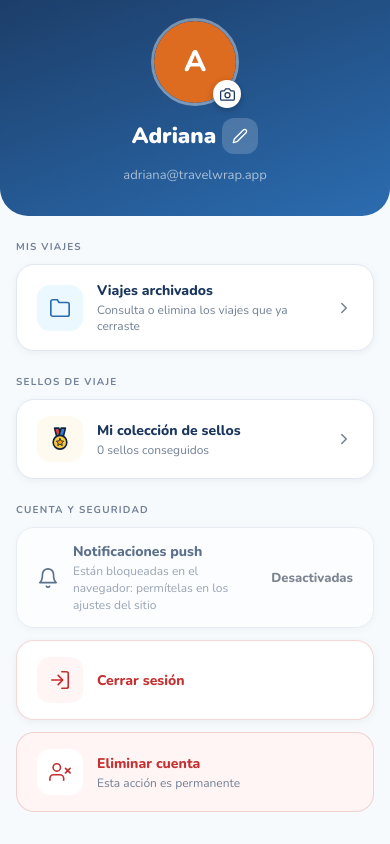
Test: Perfil · eliminar cuenta › si no hay conexión lo dice
(page scrolled)
Click the button "Eliminar cuenta Esta acción es permanente": click(195, 772) [16,732,374,812]
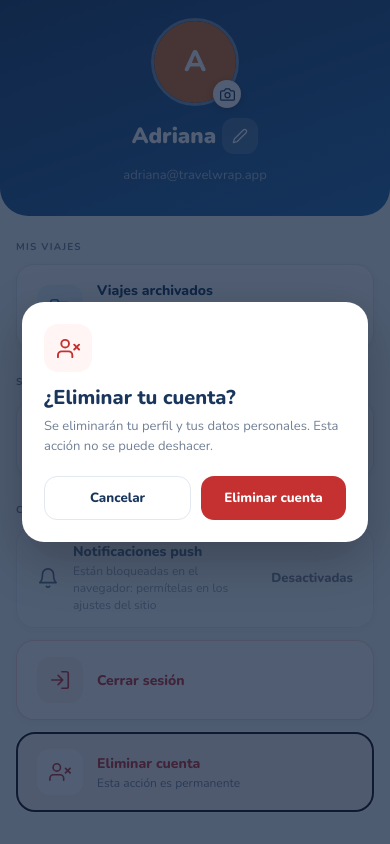
Click the button "Eliminar cuenta": click(274, 498) [201,476,346,520]
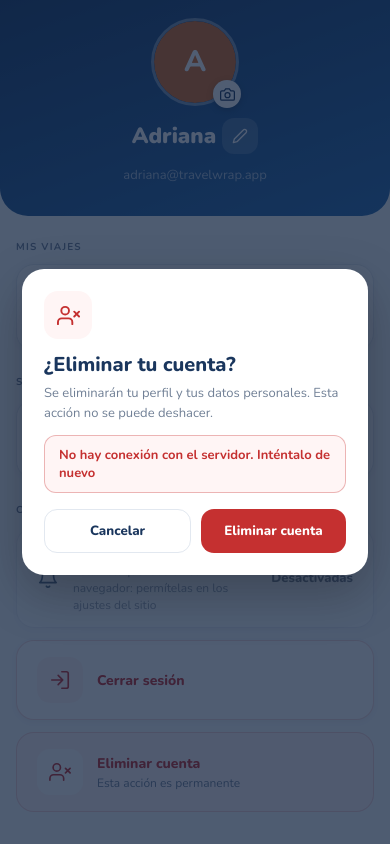
Expected: the message shows "No hay conexión con el servidor", [59,446,330,482]
